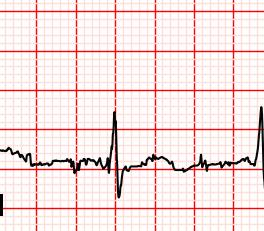ST Depression: (101, 155, 132, 200)
